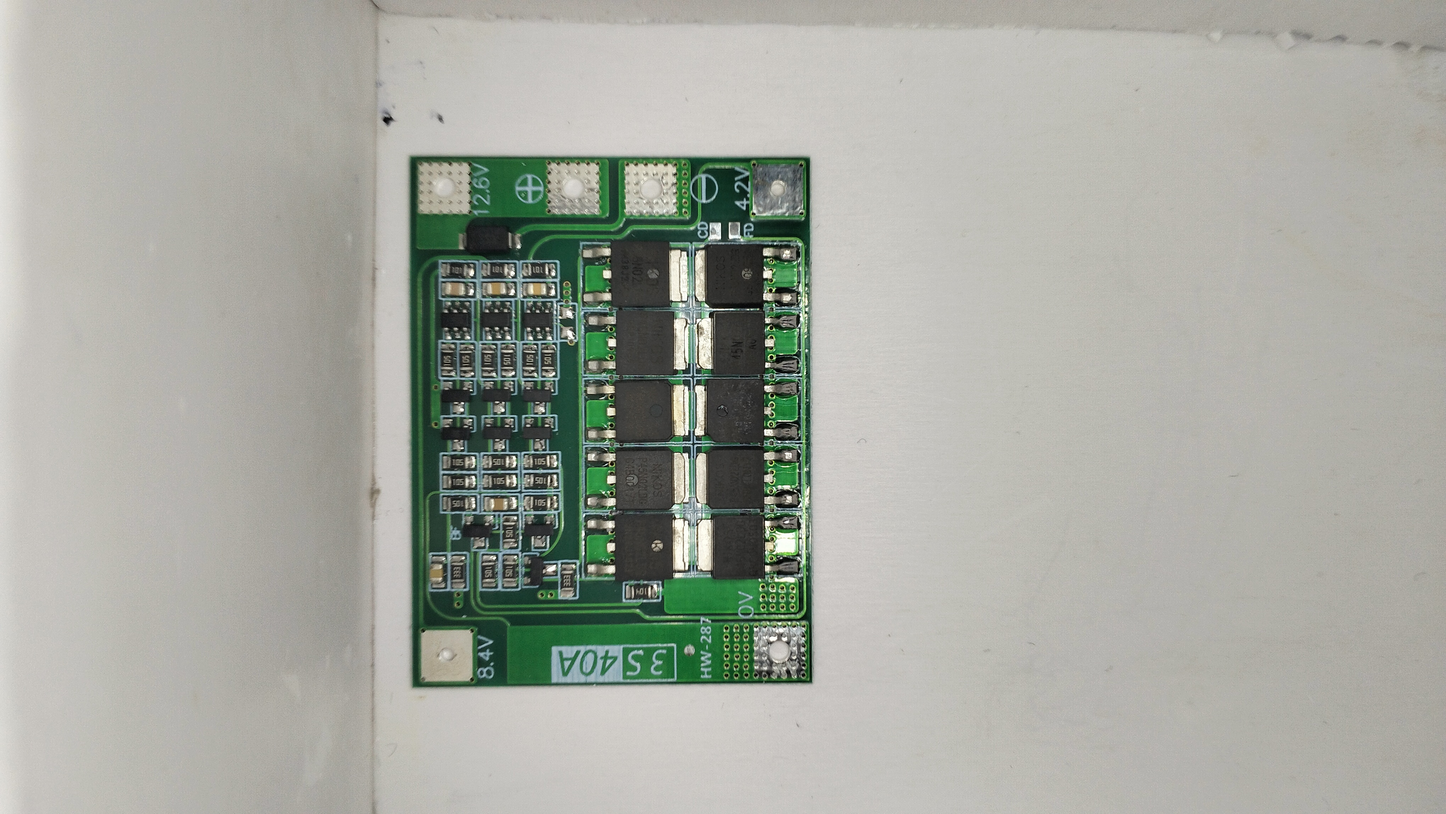C: (481, 496, 522, 513), (436, 280, 477, 297), (523, 281, 564, 297), (481, 281, 522, 297), (428, 555, 444, 590)
R 105: (478, 555, 498, 588), (538, 342, 558, 375), (520, 343, 540, 376), (477, 345, 497, 378), (501, 517, 521, 549), (498, 344, 517, 377), (457, 344, 476, 377), (438, 343, 457, 376), (501, 554, 520, 587), (441, 457, 477, 472), (525, 496, 561, 511), (483, 475, 519, 490), (523, 474, 559, 489), (523, 454, 559, 469), (481, 454, 517, 469), (441, 498, 477, 513), (441, 475, 477, 490)
R EEE: (451, 554, 467, 590), (559, 565, 575, 598)
R101: (438, 260, 475, 279), (522, 259, 559, 278), (478, 260, 515, 279)
R104: (621, 582, 662, 599)
diode: (456, 223, 524, 253)
ic 1: (690, 446, 802, 510), (690, 511, 802, 575), (581, 243, 692, 307), (695, 241, 806, 305), (695, 380, 806, 444), (583, 445, 694, 509), (692, 310, 804, 373), (588, 381, 700, 444), (584, 514, 695, 577), (583, 308, 694, 371)
ic 2: (521, 302, 556, 341), (479, 300, 514, 339), (441, 300, 475, 339)
transitor: (518, 414, 559, 450), (521, 554, 561, 590), (479, 417, 519, 453), (438, 418, 478, 454), (478, 378, 518, 414), (459, 516, 500, 551), (517, 381, 558, 416), (437, 379, 477, 414), (521, 514, 561, 549)
